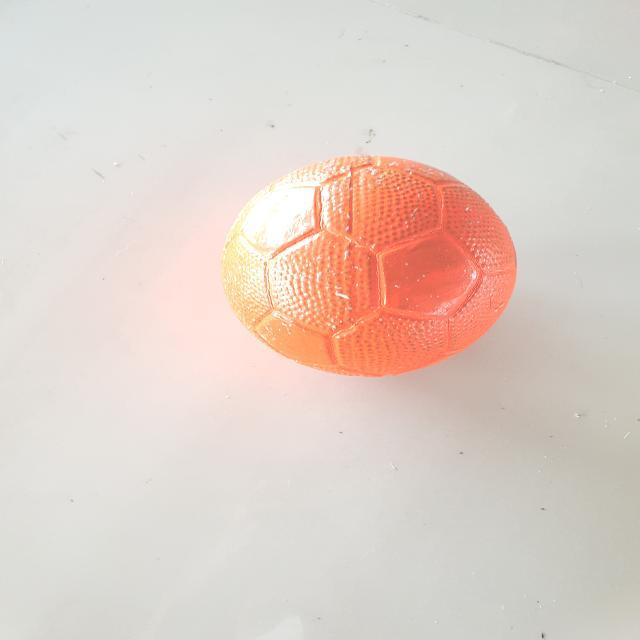bola: (195, 146, 531, 382)
